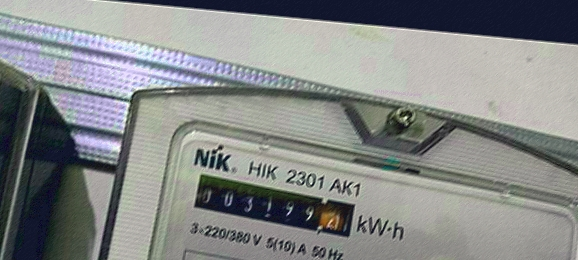0: (201, 184, 215, 204), (223, 187, 236, 207)
1: (265, 192, 276, 212)
3: (244, 193, 255, 213)
6: (325, 215, 337, 232)
9: (304, 204, 316, 223), (285, 198, 295, 217)
screen: (187, 168, 365, 245)
